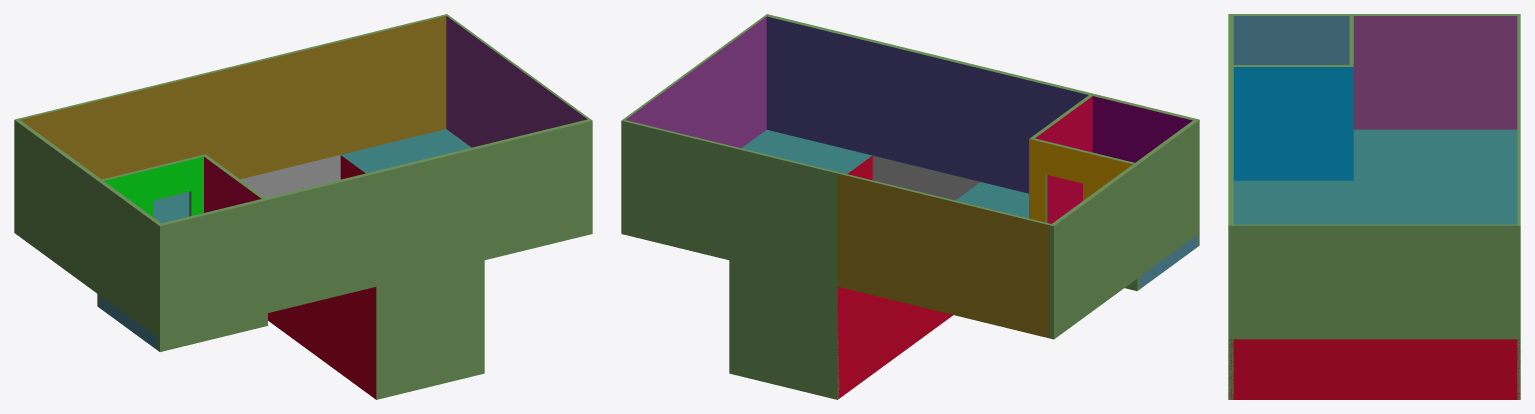
File: lvl1-blockout_v4.fbx
3 renders of one model, left to right at view 1: azimuth 30°, elevation 25°; view 2: azimuth 150°, elevation 25°; view 3: azimuth 270°, elevation 25°, orthographic.
Visible parts, largest first — view 1: lvl1_walls, lvl1_Floor; view 2: lvl1_walls, lvl1_Floor; view 3: lvl1_walls, lvl1_Floor.
Boxes of the visible parts, x1=… form: lvl1_walls: x1=14, y1=14, x2=592, y2=399; lvl1_Floor: x1=153, y1=129, x2=471, y2=399; lvl1_walls: x1=621, y1=14, x2=1199, y2=399; lvl1_Floor: x1=741, y1=130, x2=1028, y2=399; lvl1_walls: x1=1228, y1=14, x2=1520, y2=399; lvl1_Floor: x1=1228, y1=129, x2=1520, y2=399.
Bounding box in the file's own units: 12 × 6 × 7.
